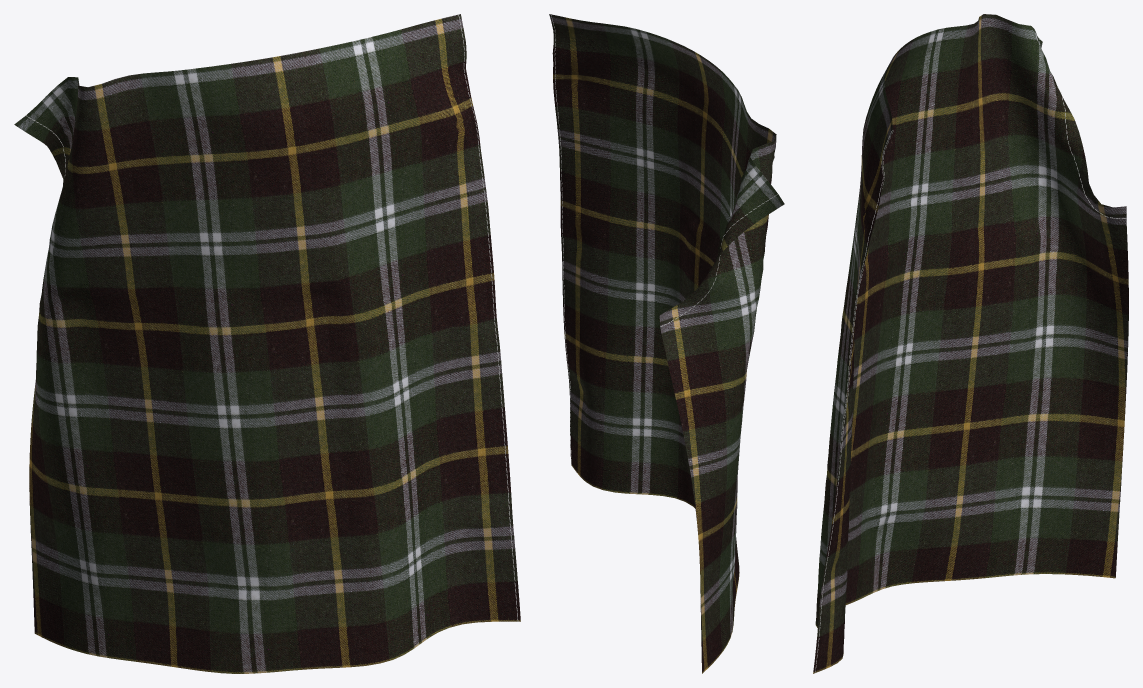
File: sz2youqianzhq.glb
3 renders of one model, left to right at view 1: azimuth 30°, elevation 25°; view 2: azimuth 150°, elevation 25°; view 3: azimuth 270°, elevation 25°, orthographic. The views are drawn at different scales.
Parts seen in each view (by area): view 1: sz2youqianzhq, _2; view 2: sz2youqianzhq, _2; view 3: sz2youqianzhq, _2.
Part boxes in pixels (x1,y1,x2,y2): sz2youqianzhq: [14, 14, 520, 673]; _2: [25, 15, 518, 621]; sz2youqianzhq: [549, 14, 784, 673]; _2: [551, 15, 778, 465]; sz2youqianzhq: [813, 14, 1128, 673]; _2: [815, 38, 1126, 672].
Size of the model in its own units: 2.39 by 3.81 by 1.86.
Materials: 3 (3 with a texture image).
